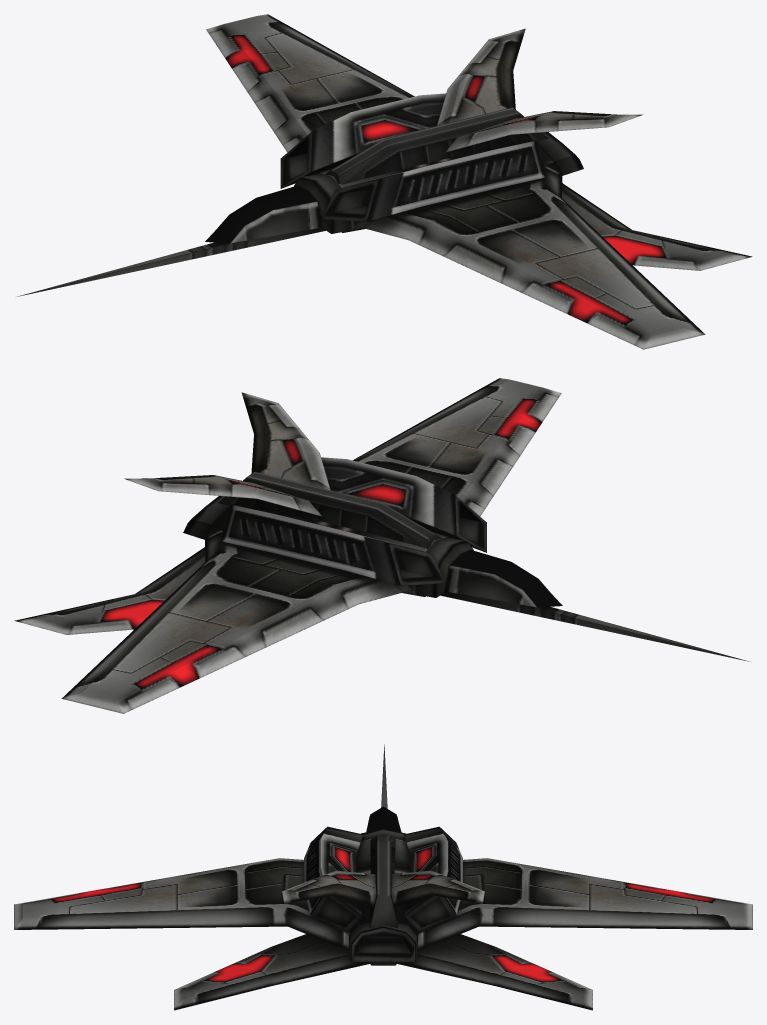
3 renders of one model, top to bottom at view 1: azimuth 30°, elevation 25°; view 2: azimuth 150°, elevation 25°; view 3: azimuth 270°, elevation 25°, orthographic. The views are drawn at different scales.
Visible parts, largest first — view 1: small_fighter_1; view 2: small_fighter_1; view 3: small_fighter_1.
Boxes of the visible parts, x1,y1,x2,y2 form: small_fighter_1: [17, 14, 752, 349]; small_fighter_1: [14, 378, 750, 713]; small_fighter_1: [14, 744, 752, 1010].
Size of the model in its own units: 35.1 by 5.97 by 43.3.
1 material, 1 textured.
